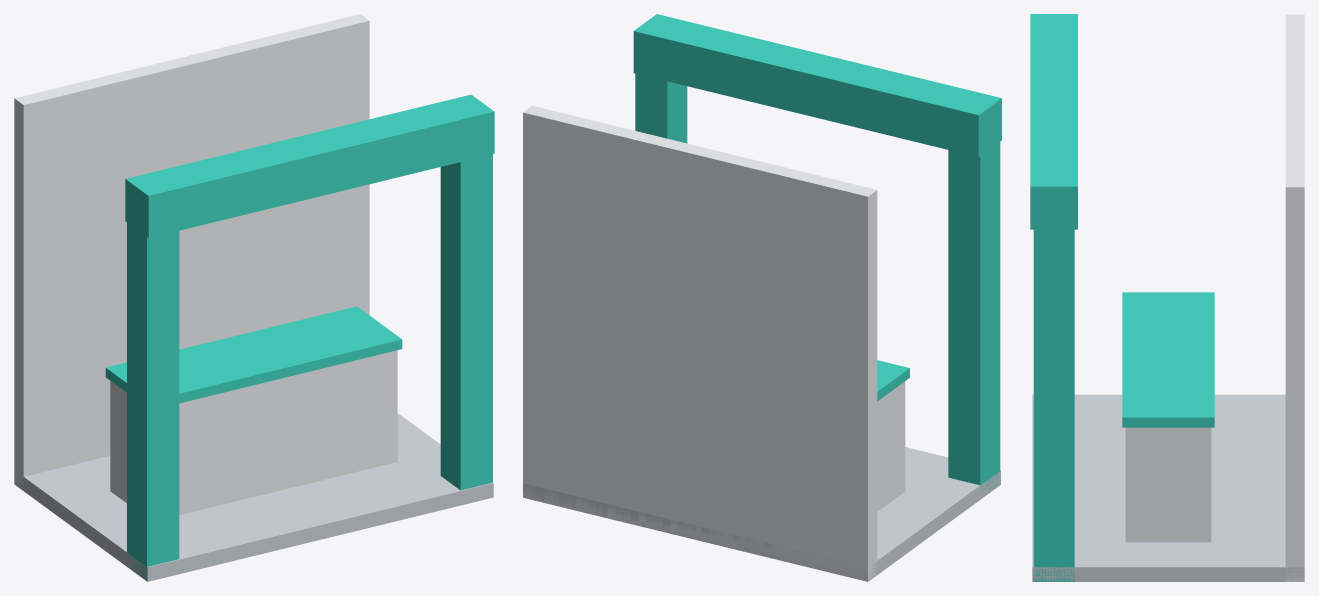
3 renders of one model, left to right at view 1: azimuth 30°, elevation 25°; view 2: azimuth 150°, elevation 25°; view 3: azimuth 270°, elevation 25°, orthographic. The views are drawn at different scales.
Visible parts, largest first — view 1: Exhibition Booth Concept; view 2: Exhibition Booth Concept; view 3: Exhibition Booth Concept.
Boxes of the visible parts, x1=… form: Exhibition Booth Concept: x1=14, y1=14, x2=494, y2=581; Exhibition Booth Concept: x1=523, y1=14, x2=1001, y2=581; Exhibition Booth Concept: x1=1030, y1=14, x2=1304, y2=581.
Size of the model in its own units: 3 by 3.2 by 2.01.
